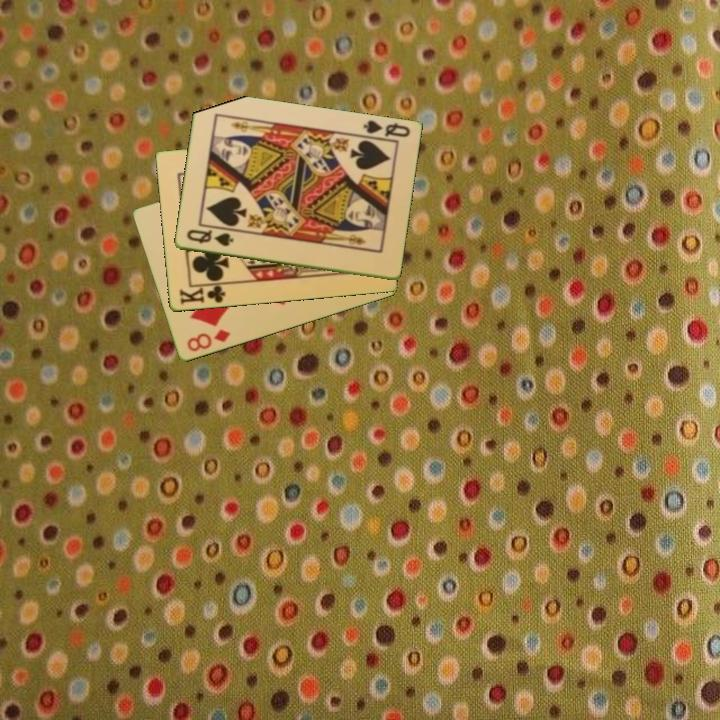8d: (183, 326, 233, 355)
Kc: (176, 281, 229, 307)
Qs: (357, 117, 413, 145), (183, 226, 236, 250)
